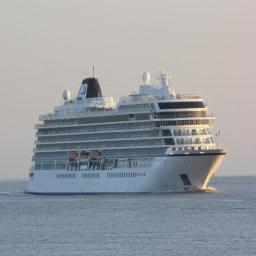cruises: (23, 65, 230, 200)
